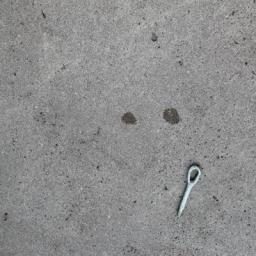FOD: (176, 159, 204, 225)
